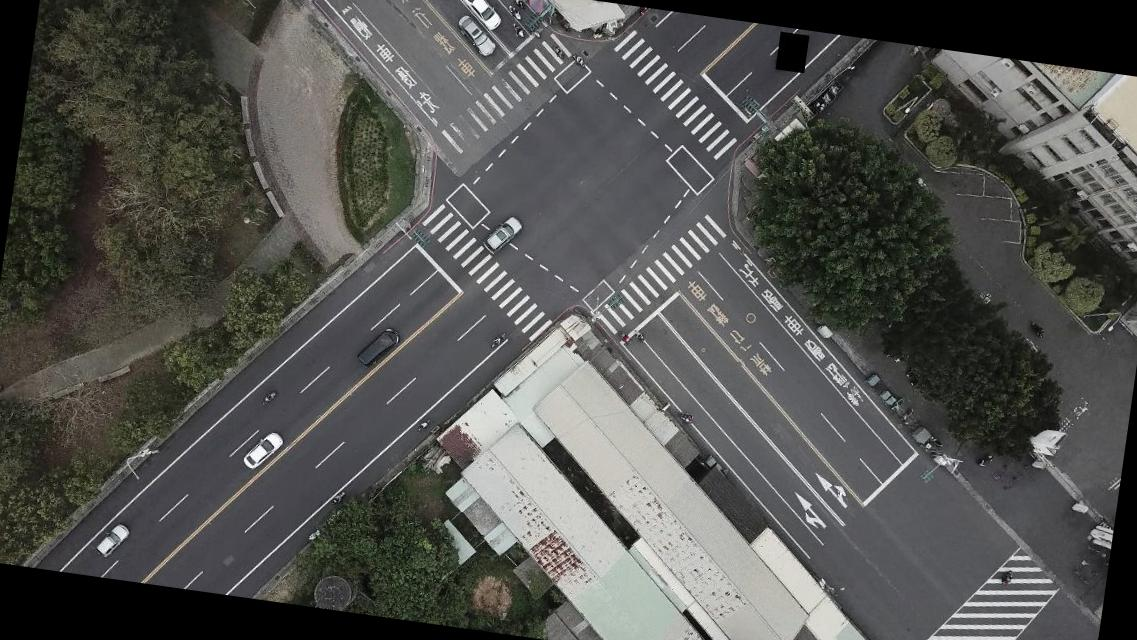vehicle: (355, 322, 402, 373), (454, 15, 500, 60), (480, 212, 524, 258), (242, 428, 284, 472), (459, 0, 507, 31), (95, 520, 130, 562)
